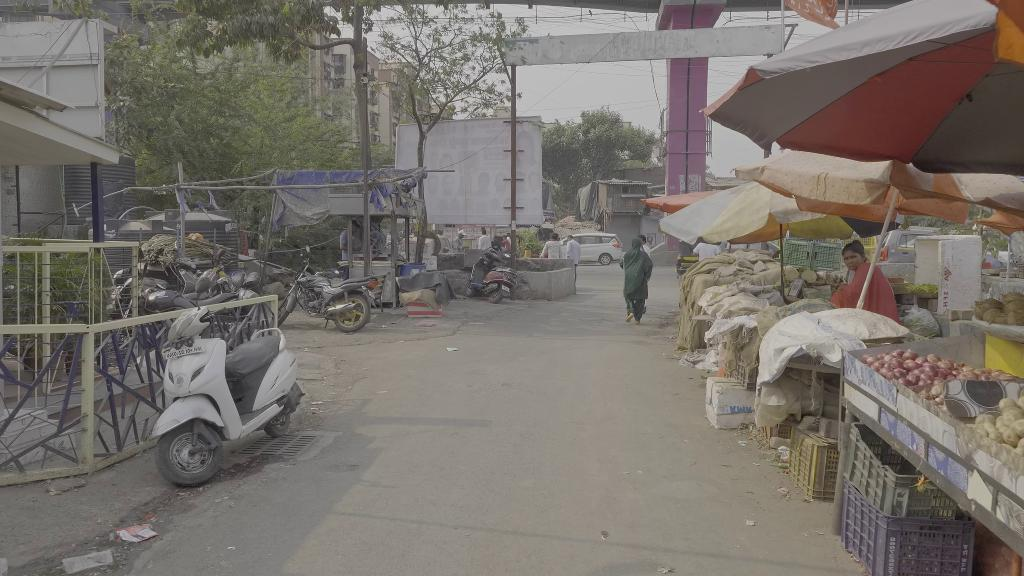garbage: (109, 516, 162, 548)
